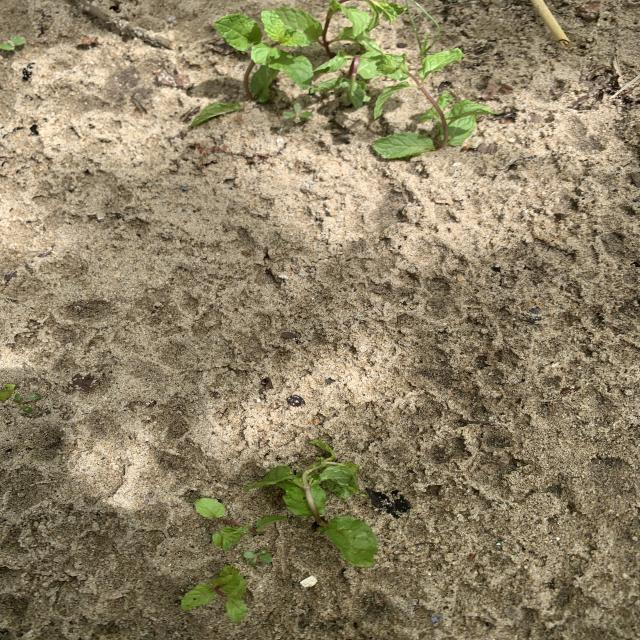crop: (247, 442, 377, 567), (371, 49, 495, 157), (214, 11, 314, 102), (265, 1, 403, 52), (196, 497, 286, 549), (314, 50, 379, 107), (181, 565, 246, 621)
weed: (405, 0, 440, 61), (283, 104, 311, 123), (243, 549, 271, 565), (0, 36, 25, 51)
